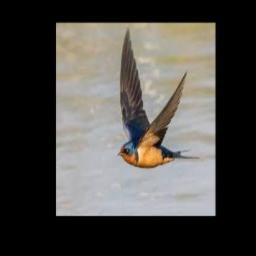Swallow: (117, 27, 199, 168)
